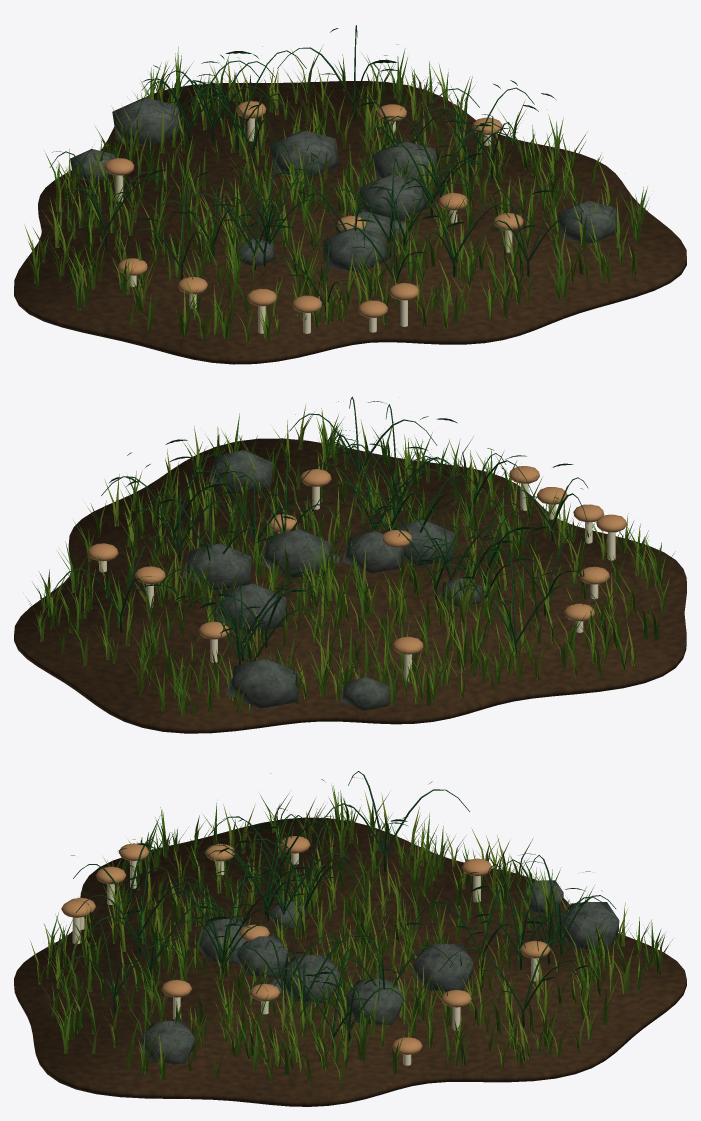
Rendered from 08_grass_patch_v4_ferns.glb.
3 renders of one model, top to bottom at view 1: azimuth 30°, elevation 25°; view 2: azimuth 150°, elevation 25°; view 3: azimuth 270°, elevation 25°, orthographic. The views are drawn at different scales.
Parts seen in each view (by area): view 1: Ground cover variant | irregular closed earth patch.002, Ground cover variant | modeled grass blades.002, Ground cover variant | compound fern fronds, 08_grass_patch_v4_ferns | Hill | weathered slate, 08_grass_patch_v4_ferns | Variants | woodland mushroom cap, 08_grass_patch_v4_ferns | Flowers | ivory petals; view 2: Ground cover variant | irregular closed earth patch.002, Ground cover variant | modeled grass blades.002, 08_grass_patch_v4_ferns | Hill | weathered slate, Ground cover variant | compound fern fronds, 08_grass_patch_v4_ferns | Variants | woodland mushroom cap, 08_grass_patch_v4_ferns | Flowers | ivory petals; view 3: Ground cover variant | irregular closed earth patch.002, Ground cover variant | modeled grass blades.002, Ground cover variant | compound fern fronds, 08_grass_patch_v4_ferns | Hill | weathered slate, 08_grass_patch_v4_ferns | Variants | woodland mushroom cap, 08_grass_patch_v4_ferns | Flowers | ivory petals.
Part boxes in pixels (x1,y1,x2,y2): Ground cover variant | irregular closed earth patch.002: [14, 81, 686, 364]; Ground cover variant | modeled grass blades.002: [24, 46, 649, 342]; Ground cover variant | compound fern fronds: [49, 25, 597, 319]; 08_grass_patch_v4_ferns | Hill | weathered slate: [70, 97, 617, 272]; 08_grass_patch_v4_ferns | Variants | woodland mushroom cap: [104, 101, 523, 317]; 08_grass_patch_v4_ferns | Flowers | ivory petals: [115, 118, 512, 333]; Ground cover variant | irregular closed earth patch.002: [14, 438, 686, 733]; Ground cover variant | modeled grass blades.002: [26, 403, 675, 716]; 08_grass_patch_v4_ferns | Hill | weathered slate: [182, 450, 481, 710]; Ground cover variant | compound fern fronds: [48, 396, 603, 671]; 08_grass_patch_v4_ferns | Variants | woodland mushroom cap: [87, 466, 626, 654]; 08_grass_patch_v4_ferns | Flowers | ivory petals: [99, 483, 615, 681]; Ground cover variant | irregular closed earth patch.002: [14, 817, 686, 1106]; Ground cover variant | modeled grass blades.002: [30, 785, 672, 1083]; Ground cover variant | compound fern fronds: [55, 771, 615, 1048]; 08_grass_patch_v4_ferns | Hill | weathered slate: [141, 880, 619, 1064]; 08_grass_patch_v4_ferns | Variants | woodland mushroom cap: [61, 836, 550, 1054]; 08_grass_patch_v4_ferns | Flowers | ivory petals: [72, 853, 538, 1065].
Size of the model in its own units: 4.31 by 0.6708 by 4.32.
Materials: 7 (5 with a texture image).
